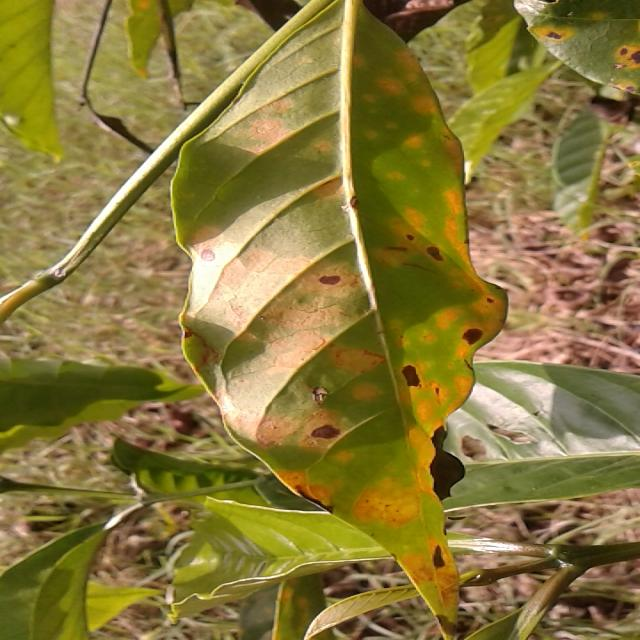Enfermedad-Roya: (169, 0, 509, 636)
